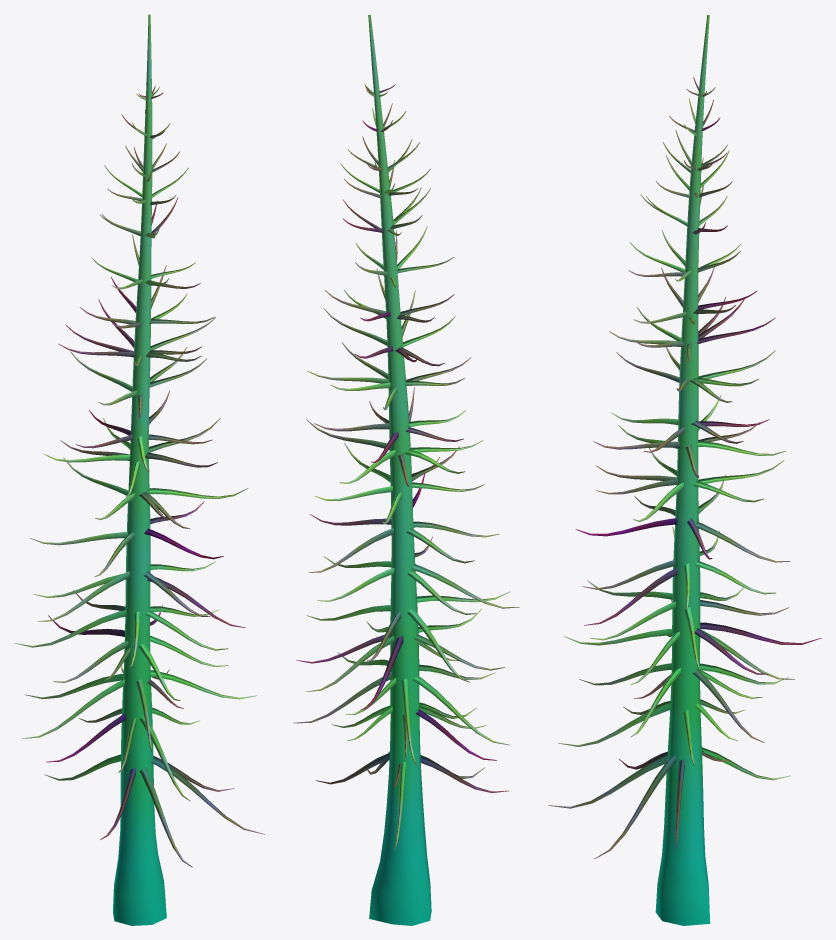
File: spruce-grove-c.glb
The picture shows the model from 3 angles, left to right: view 1: azimuth 30°, elevation 25°; view 2: azimuth 150°, elevation 25°; view 3: azimuth 270°, elevation 25°; orthographic projection. The views are drawn at different scales.
Visible parts, largest first — view 1: bark; view 2: bark; view 3: bark.
Boxes of the visible parts, bbox=[...] form: bark: bbox=[14, 14, 264, 925]; bark: bbox=[293, 15, 519, 925]; bark: bbox=[548, 15, 821, 925].
Bounding box in the file's own units: 3.93 × 16.44 × 4.48.
